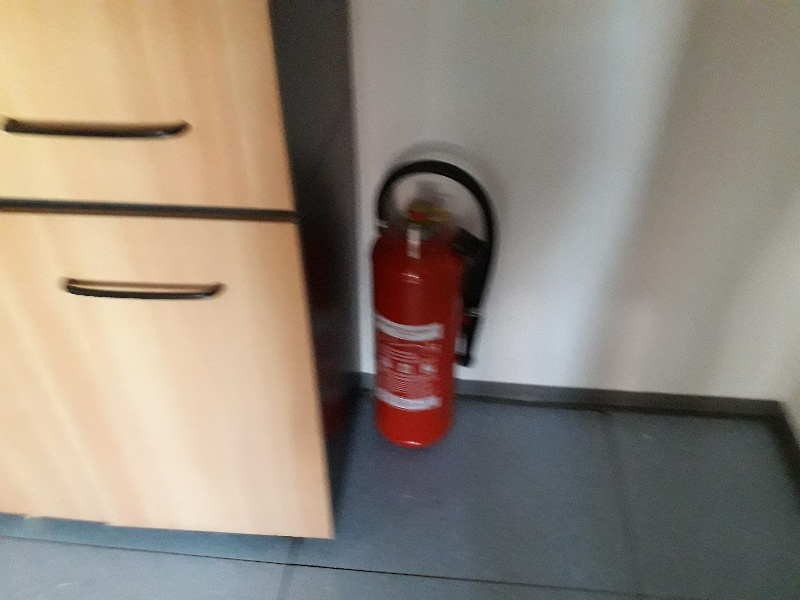vataparat: (371, 162, 497, 448)
